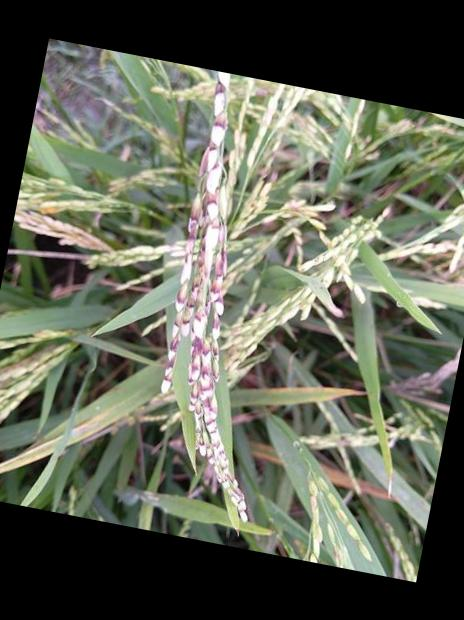Panicle Blight: (158, 82, 248, 521)
